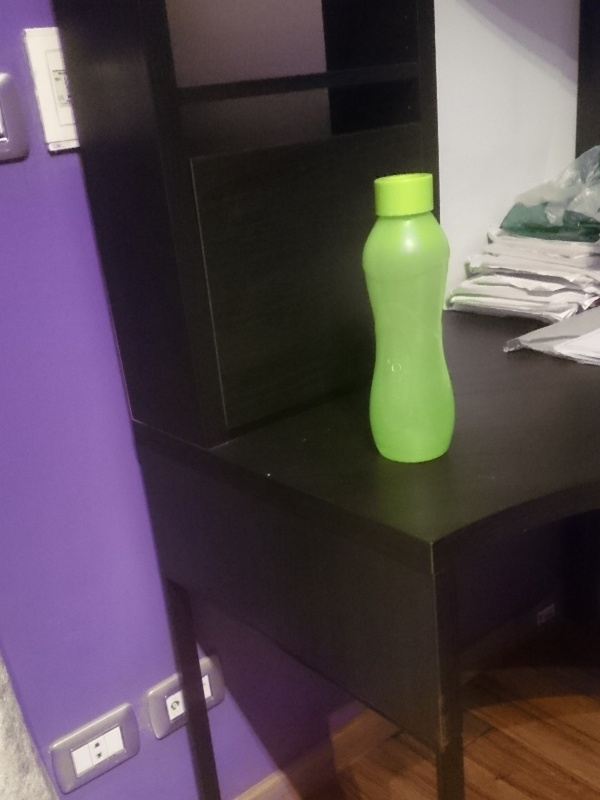my bottle: (360, 172, 456, 464)
